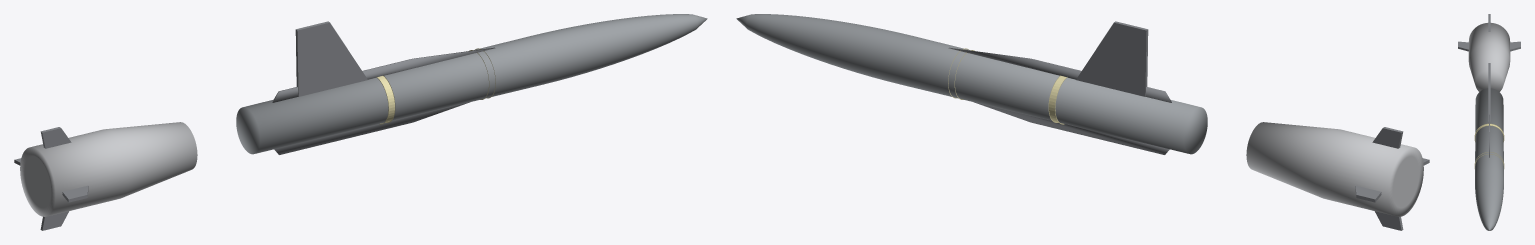
Rendered from CN_ASM_YJ18_LOD0.fbx.
The picture shows the model from 3 angles, left to right: view 1: azimuth 30°, elevation 25°; view 2: azimuth 150°, elevation 25°; view 3: azimuth 270°, elevation 25°; orthographic projection. The views are drawn at different scales.
Visible parts, largest first — view 1: WPN_CN_ASM_YJ18_LOD0_Body, WPN_CN_ASM_YJ18_LOD0_Tail, WPN_CN_ASM_YJ18_LOD0_Wings, WPN_CN_ASM_YJ18_LOD0_Detail, WPN_CN_ASM_YJ18_LOD0_Fins, WPN_CN_ASM_YJ18_LOD0_Marking; view 2: WPN_CN_ASM_YJ18_LOD0_Body, WPN_CN_ASM_YJ18_LOD0_Tail, WPN_CN_ASM_YJ18_LOD0_Wings, WPN_CN_ASM_YJ18_LOD0_Detail, WPN_CN_ASM_YJ18_LOD0_Fins, WPN_CN_ASM_YJ18_LOD0_Marking; view 3: WPN_CN_ASM_YJ18_LOD0_Body, WPN_CN_ASM_YJ18_LOD0_Tail, WPN_CN_ASM_YJ18_LOD0_Fins, WPN_CN_ASM_YJ18_LOD0_Marking, WPN_CN_ASM_YJ18_LOD0_Wings.
Boxes of the visible parts, x1,y1,x2,y2 form: WPN_CN_ASM_YJ18_LOD0_Body: [236, 14, 707, 154]; WPN_CN_ASM_YJ18_LOD0_Tail: [20, 122, 197, 216]; WPN_CN_ASM_YJ18_LOD0_Wings: [295, 21, 367, 96]; WPN_CN_ASM_YJ18_LOD0_Detail: [272, 47, 495, 154]; WPN_CN_ASM_YJ18_LOD0_Fins: [14, 127, 88, 230]; WPN_CN_ASM_YJ18_LOD0_Marking: [376, 48, 495, 124]; WPN_CN_ASM_YJ18_LOD0_Body: [736, 14, 1207, 154]; WPN_CN_ASM_YJ18_LOD0_Tail: [1246, 122, 1423, 216]; WPN_CN_ASM_YJ18_LOD0_Wings: [1076, 21, 1148, 96]; WPN_CN_ASM_YJ18_LOD0_Detail: [948, 47, 1171, 154]; WPN_CN_ASM_YJ18_LOD0_Fins: [1355, 127, 1429, 230]; WPN_CN_ASM_YJ18_LOD0_Marking: [948, 48, 1067, 124]; WPN_CN_ASM_YJ18_LOD0_Body: [1475, 88, 1503, 230]; WPN_CN_ASM_YJ18_LOD0_Tail: [1468, 23, 1510, 91]; WPN_CN_ASM_YJ18_LOD0_Fins: [1458, 14, 1520, 51]; WPN_CN_ASM_YJ18_LOD0_Marking: [1474, 123, 1504, 168]; WPN_CN_ASM_YJ18_LOD0_Wings: [1488, 63, 1490, 121].
Size of the model in its own units: 8.2 by 1.15 by 1.62.
